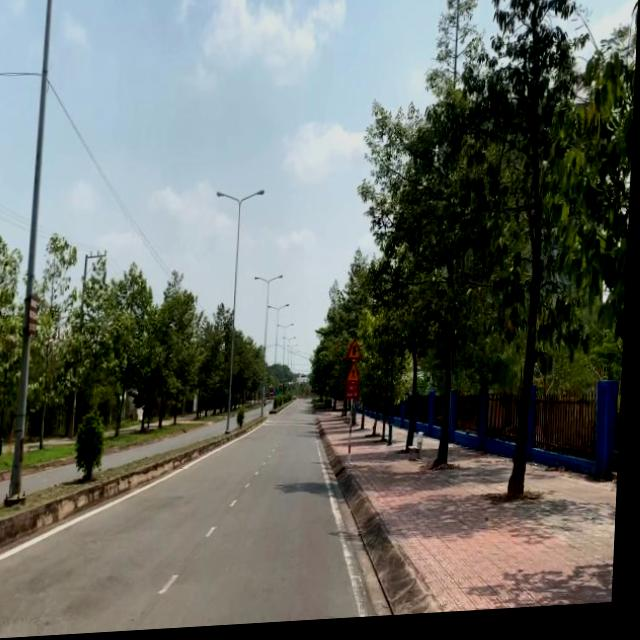Giao nhau voi duong khong uu tien ben phai: (351, 342, 364, 365)
Nguoi di bo cat ngang: (350, 363, 364, 388)
